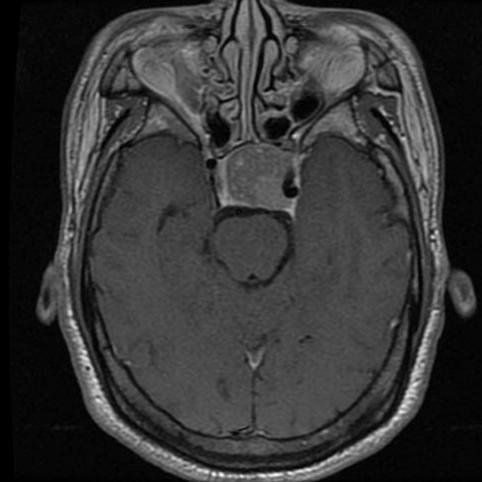Tumour-Pituitary: (199, 145, 319, 221)
